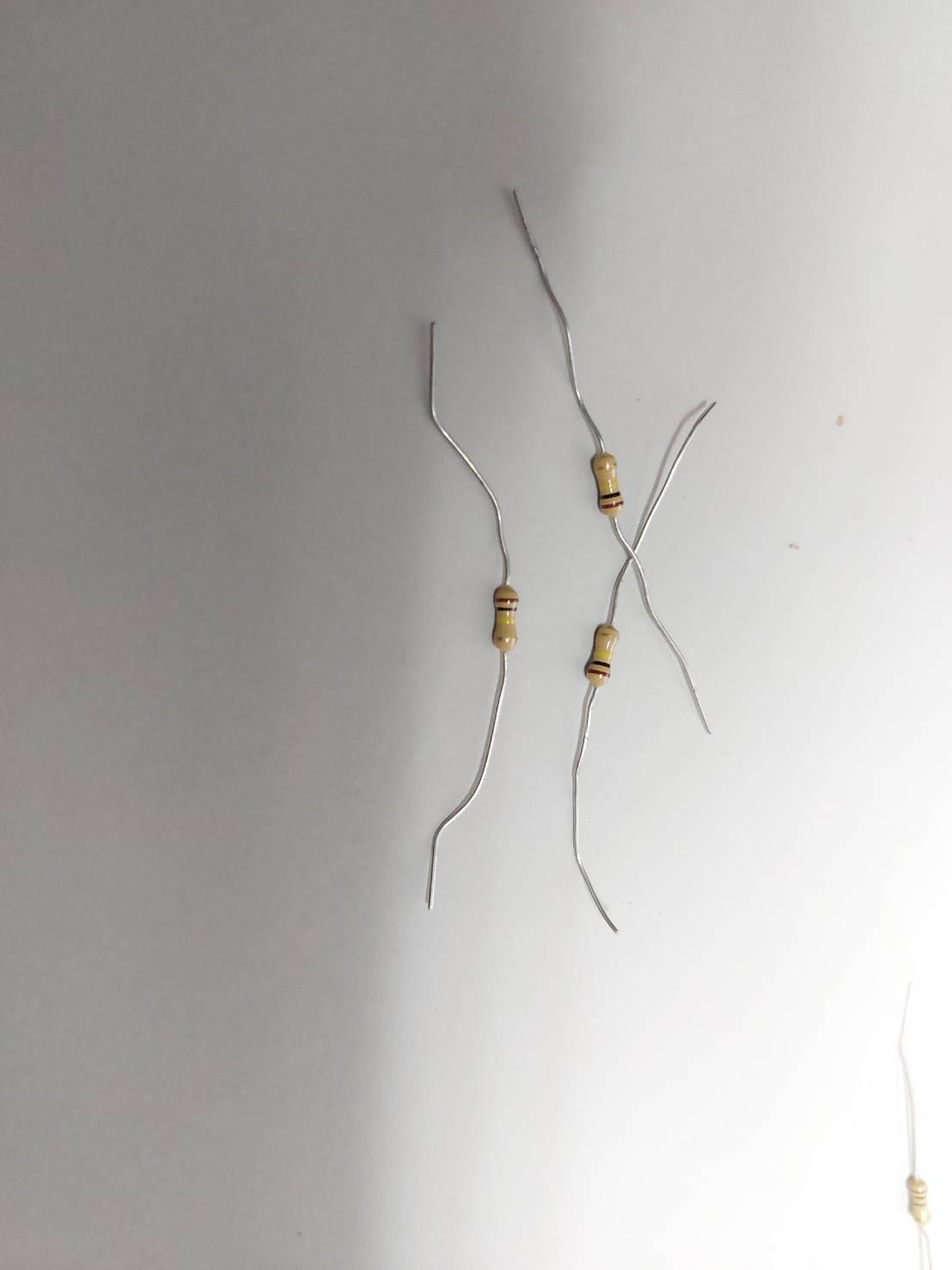resistor: (592, 436, 626, 526), (492, 579, 525, 657), (588, 619, 615, 692)
